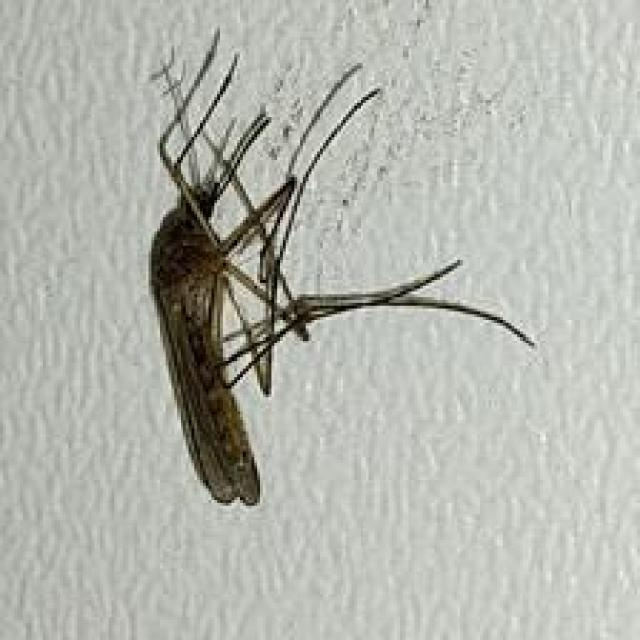Culex: (144, 24, 536, 507)
